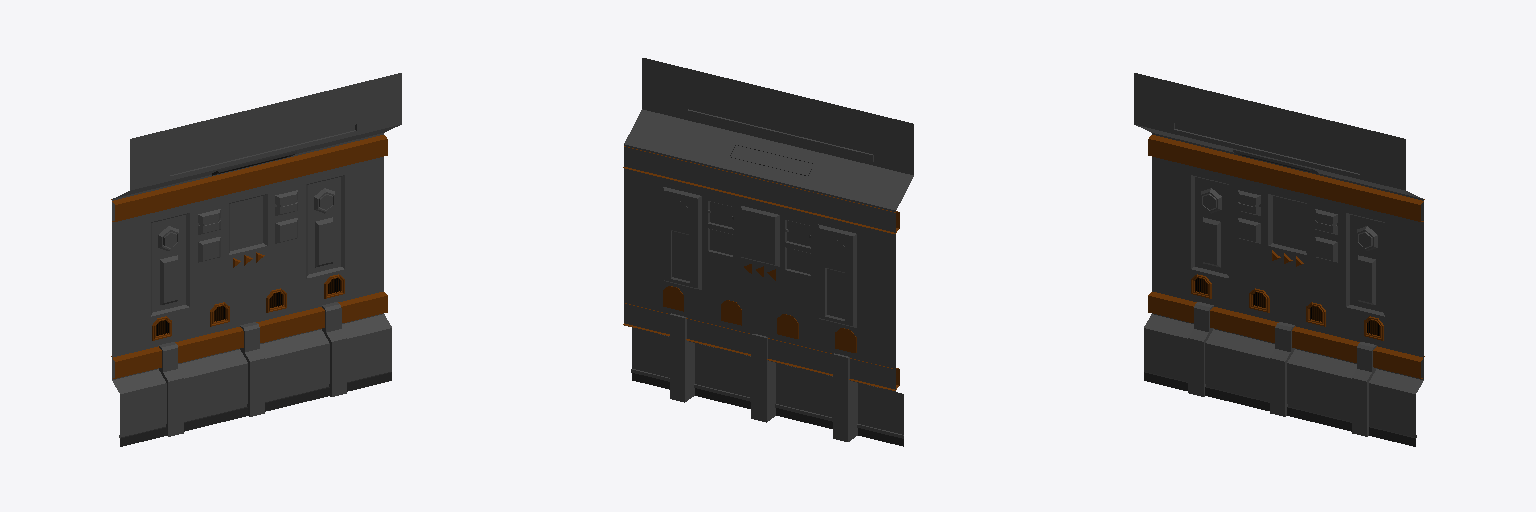
Rendered from Wall_3.obj.
3 views of the same model, side by side, from view 1: azimuth 30°, elevation 25°; view 2: azimuth 150°, elevation 25°; view 3: azimuth 330°, elevation 25° (orthographic).
Parts seen in each view (by area): view 1: Wall_3_Plane.056; view 2: Wall_3_Plane.056; view 3: Wall_3_Plane.056.
Part boxes in pixels (bbox=[...]): Wall_3_Plane.056: bbox=[111, 73, 401, 446]; Wall_3_Plane.056: bbox=[623, 58, 913, 446]; Wall_3_Plane.056: bbox=[1134, 73, 1424, 446].
Bounding box in the file's own units: 4 × 4.43 × 0.523.